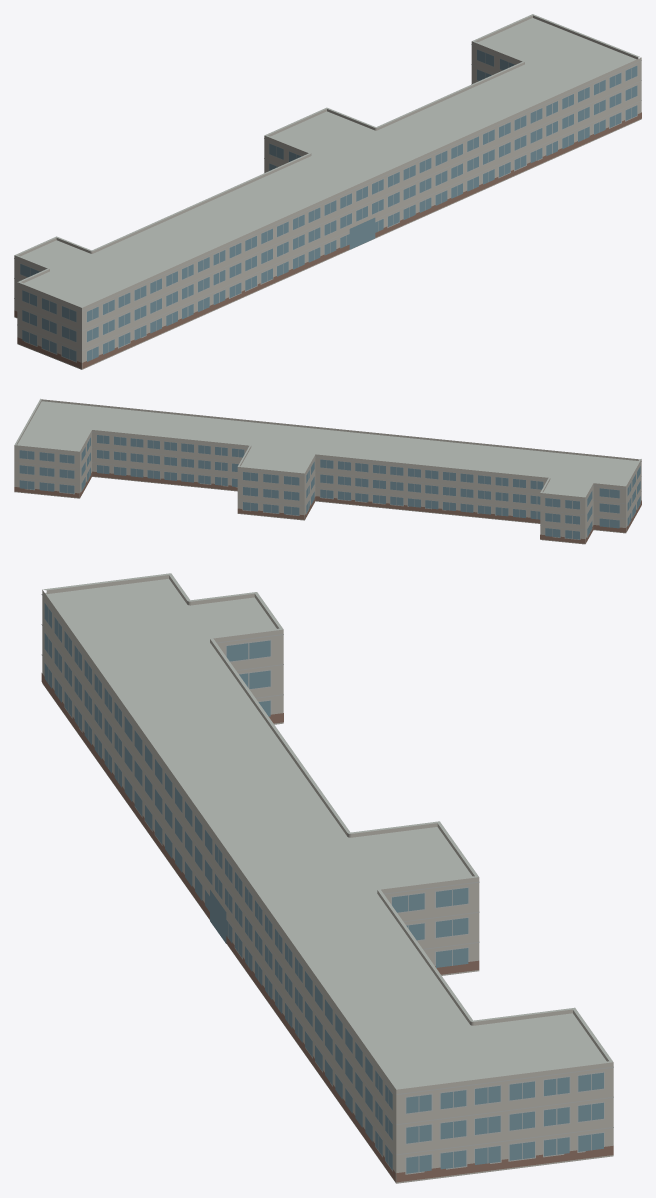
File: public-48adf803-e94c-4f3a-b6b0-86284e555e5b.glb
3 renders of one model, top to bottom at view 1: azimuth 30°, elevation 25°; view 2: azimuth 150°, elevation 25°; view 3: azimuth 270°, elevation 25°, orthographic. The views are drawn at different scales.
Parts seen in each view (by area): view 1: public-48adf803-e94c-4f3a-b6b0-86284e555e5b; view 2: public-48adf803-e94c-4f3a-b6b0-86284e555e5b; view 3: public-48adf803-e94c-4f3a-b6b0-86284e555e5b.
Boxes of the visible parts, box(x1,y1,x2,y2) form: public-48adf803-e94c-4f3a-b6b0-86284e555e5b: box(14, 14, 641, 369); public-48adf803-e94c-4f3a-b6b0-86284e555e5b: box(14, 398, 641, 544); public-48adf803-e94c-4f3a-b6b0-86284e555e5b: box(41, 573, 613, 1183).
Size of the model in its own units: 108 by 9.15 by 50.5.
